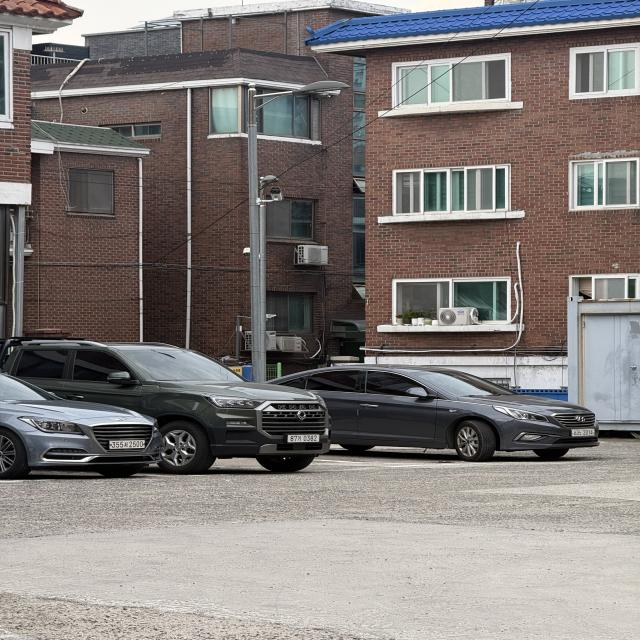car: (254, 342, 624, 488), (0, 327, 349, 477)
